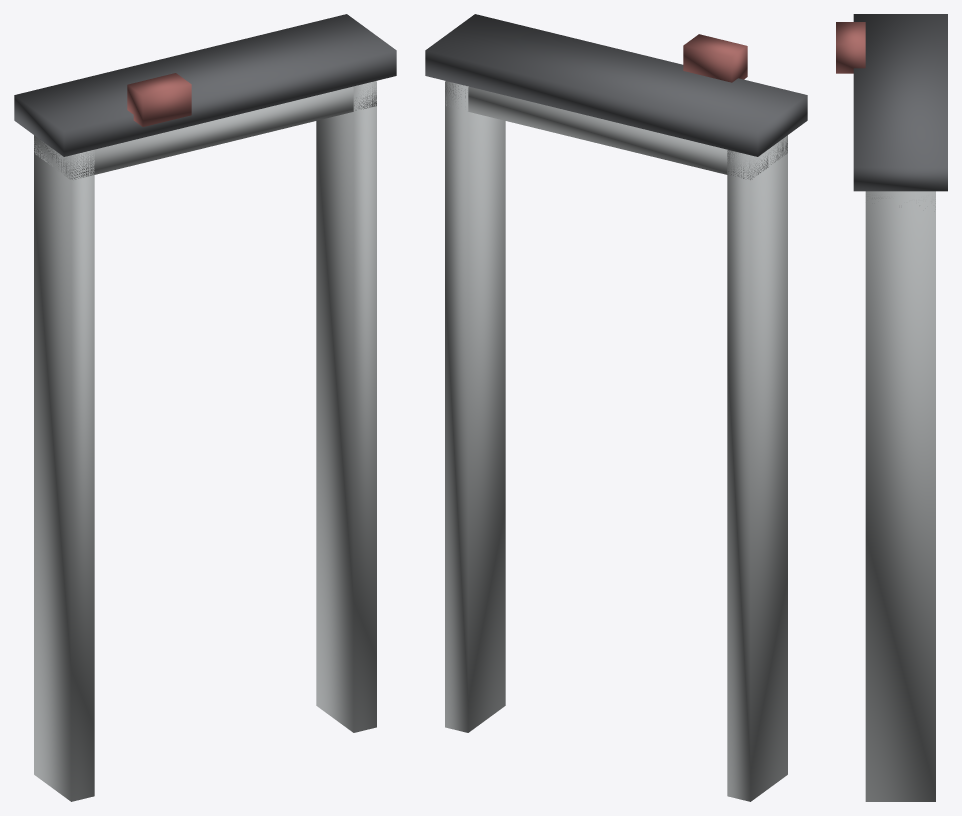
Rendered from doorway_fire_rated_w96_h220_d24.glb.
3 renders of one model, left to right at view 1: azimuth 30°, elevation 25°; view 2: azimuth 150°, elevation 25°; view 3: azimuth 270°, elevation 25°, orthographic. The views are drawn at different scales.
Parts seen in each view (by area): view 1: world; view 2: world; view 3: world.
Part boxes in pixels (bbox=[...]): world: bbox=[14, 14, 396, 801]; world: bbox=[425, 14, 807, 801]; world: bbox=[836, 14, 947, 801].
Size of the model in its own units: 1.23 by 2.49 by 0.38.
